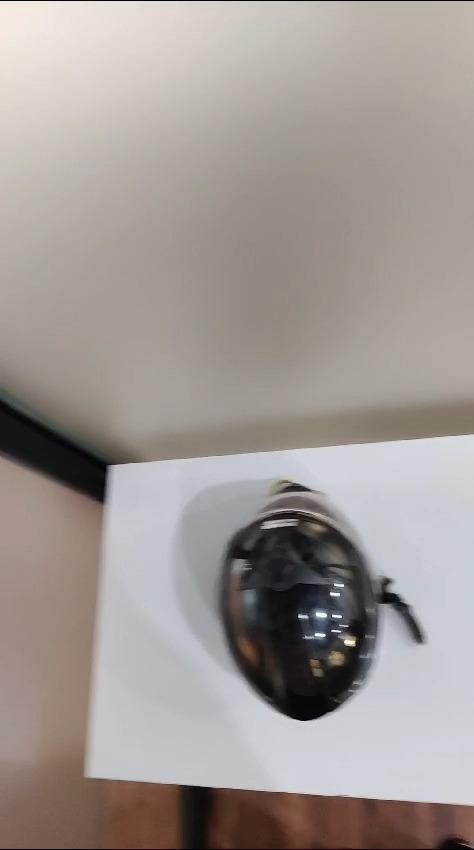Helmet: (219, 481, 423, 718)
